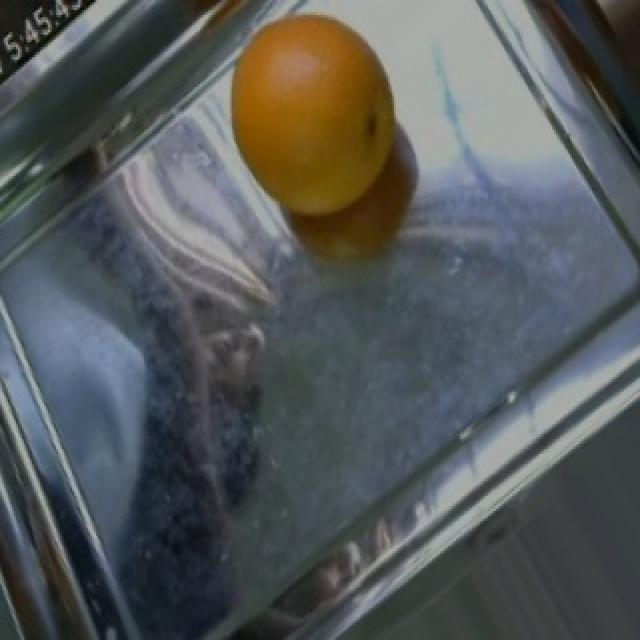Fruit: (206, 0, 422, 238)
